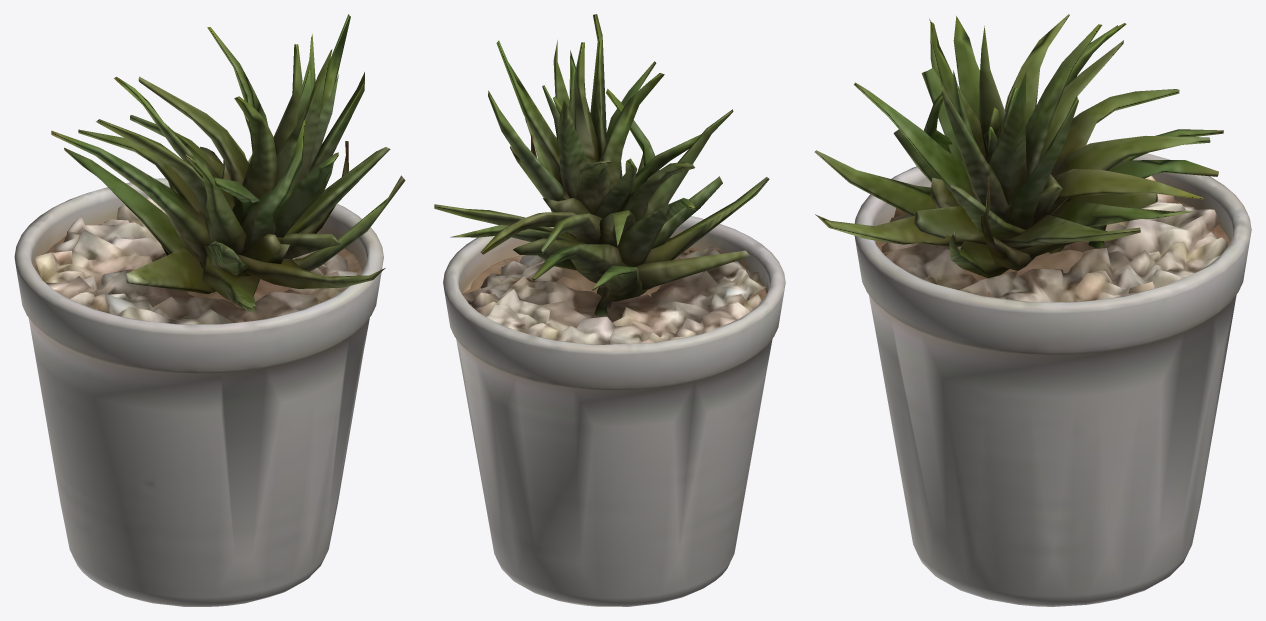
File: potted_plant.glb
3 views of the same model, side by side, from view 1: azimuth 30°, elevation 25°; view 2: azimuth 150°, elevation 25°; view 3: azimuth 270°, elevation 25° (orthographic). The views are drawn at different scales.
Parts seen in each view (by area): view 1: potted_plant_04_ground; view 2: potted_plant_04_ground; view 3: potted_plant_04_ground.
Part boxes in pixels (bbox=[...]): potted_plant_04_ground: bbox=[14, 14, 405, 606]; potted_plant_04_ground: bbox=[434, 14, 785, 606]; potted_plant_04_ground: bbox=[814, 14, 1251, 606].
Bounding box in the file's own units: 0.1679 × 0.2672 × 0.1845.
1 material, 1 textured.
